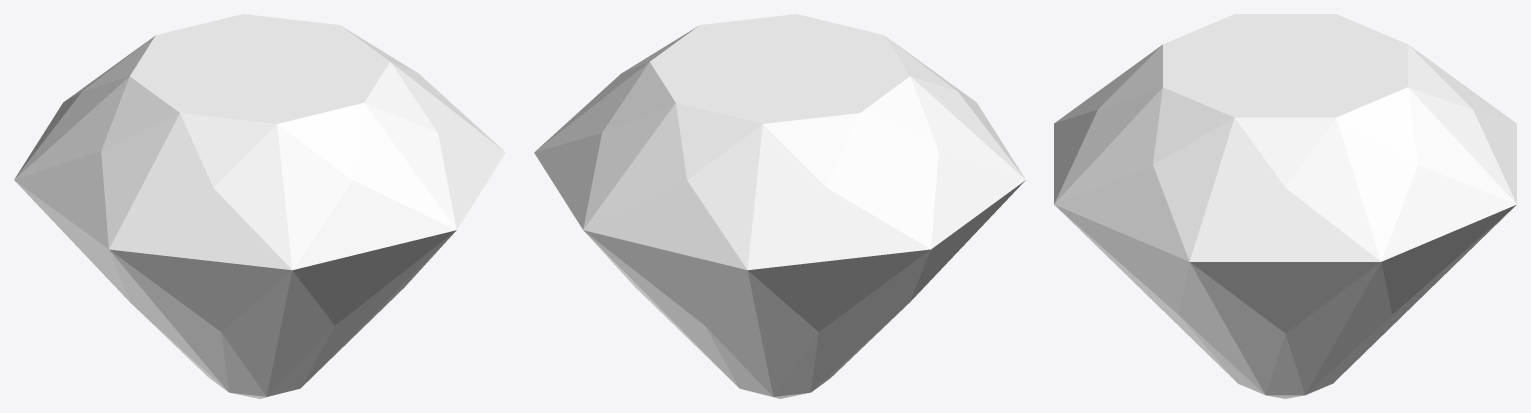
The model's file is ChaosEmerald.obj.
3 views of the same model, side by side, from view 1: azimuth 30°, elevation 25°; view 2: azimuth 150°, elevation 25°; view 3: azimuth 270°, elevation 25° (orthographic).
Size of the model in its own units: 2.26 by 1.79 by 2.26.
Materials: 1 (1 with a texture image).
